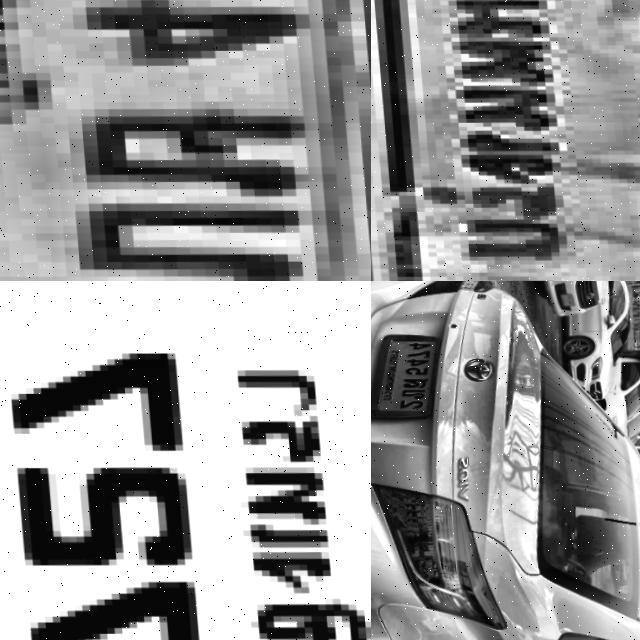license-plate: (0, 281, 371, 640), (0, 0, 371, 281), (371, 0, 640, 281), (371, 328, 444, 416), (554, 292, 573, 306)
